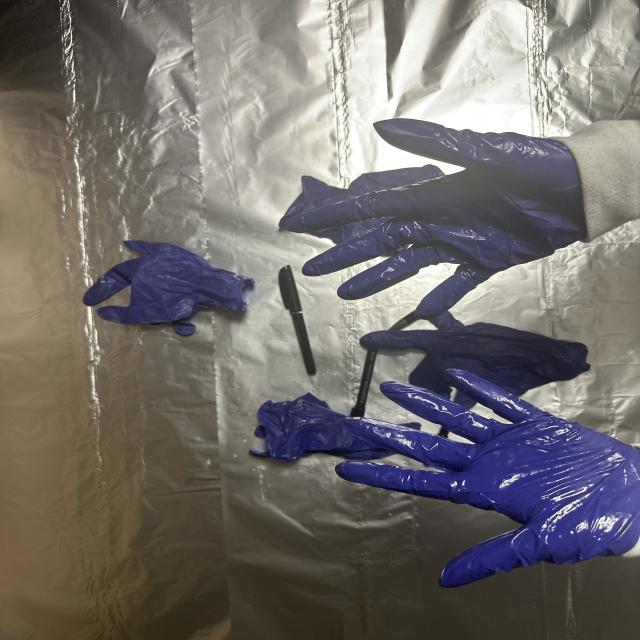gloves_contaminated: (335, 370, 640, 588), (281, 118, 586, 319)
